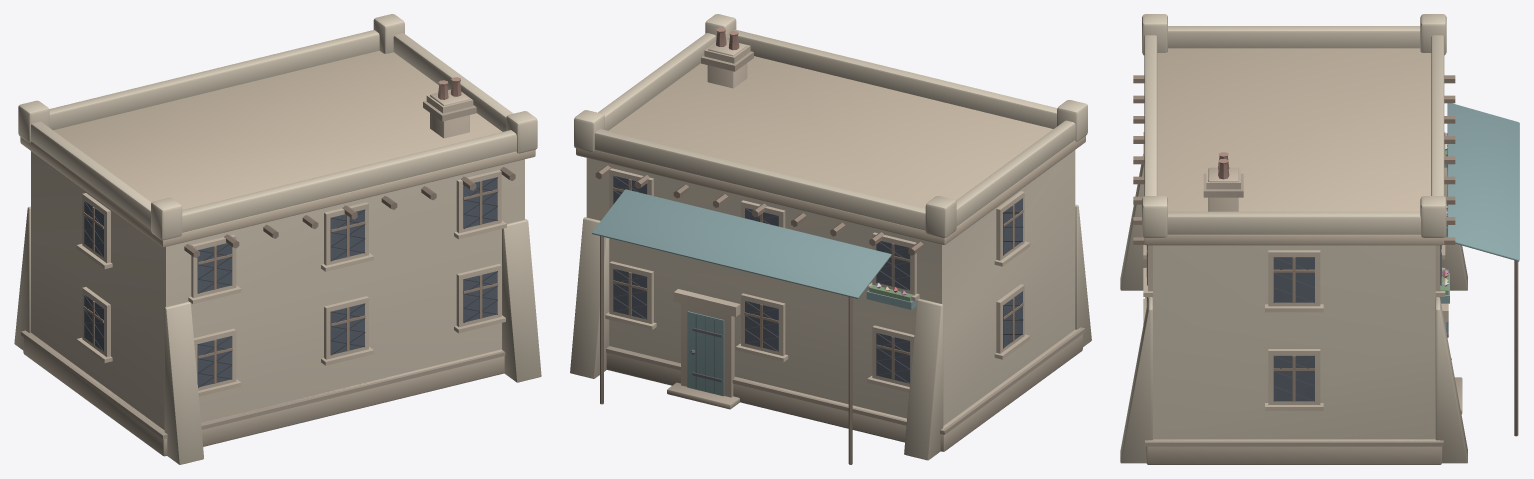
Rendered from hall_sun.gltf.
3 renders of one model, left to right at view 1: azimuth 30°, elevation 25°; view 2: azimuth 150°, elevation 25°; view 3: azimuth 270°, elevation 25°, orthographic. The views are drawn at different scales.
Parts seen in each view (by area): view 1: Body; view 2: Body; view 3: Body.
Boxes of the visible parts, bbox=[...] form: Body: bbox=[14, 14, 541, 464]; Body: bbox=[570, 14, 1091, 464]; Body: bbox=[1120, 14, 1519, 464].
Size of the model in its own units: 10.5 by 7.21 by 9.17.
